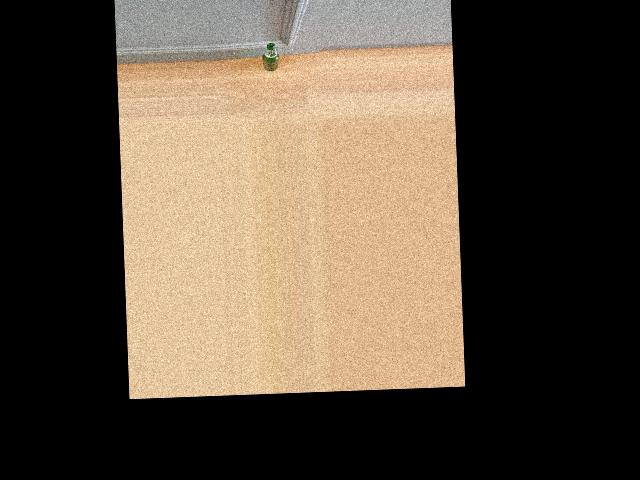beer: (261, 42, 280, 71)
